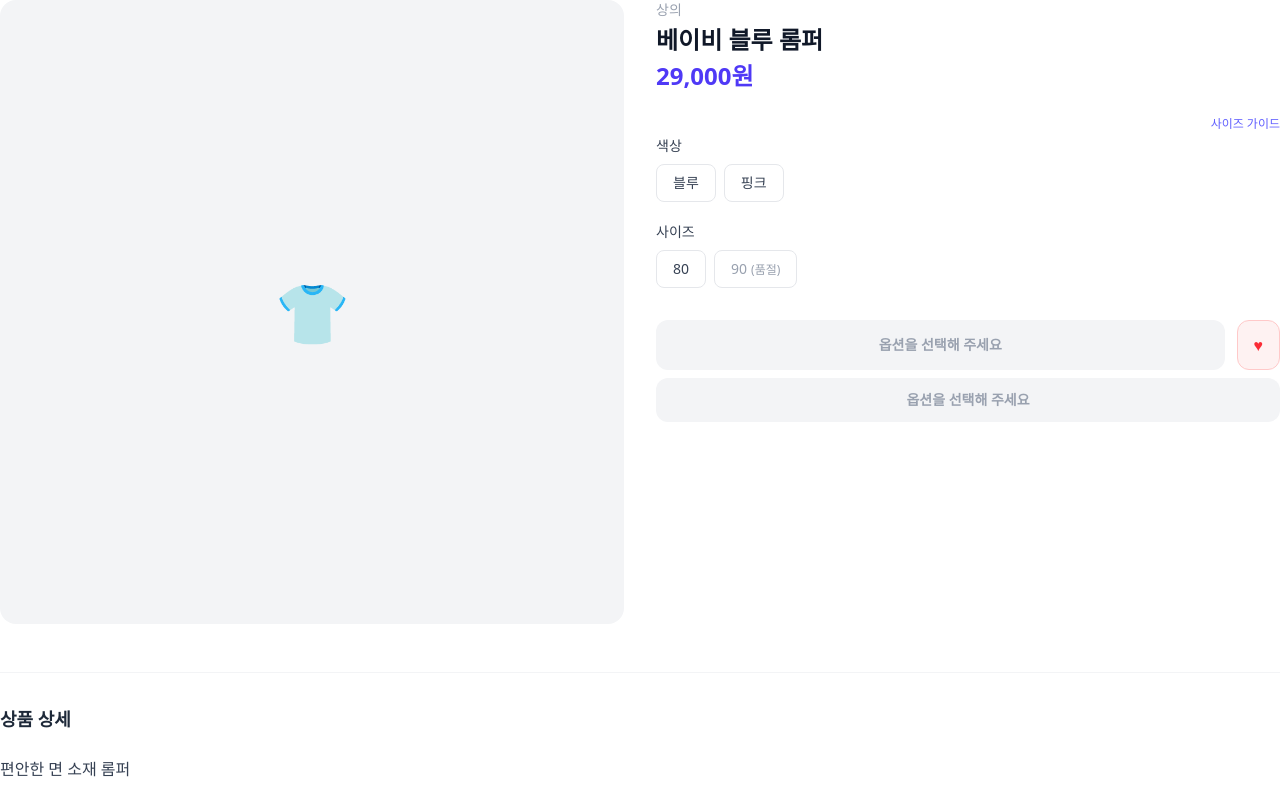
Test: ProductDetailContent › 사이즈 가이드 모달 › 사이즈 가이드 버튼 클릭 시 모달이 열린다
Click the button with aria-label "사이즈 가이드 열기" at [1245, 124], box [1211,116,1279,132]
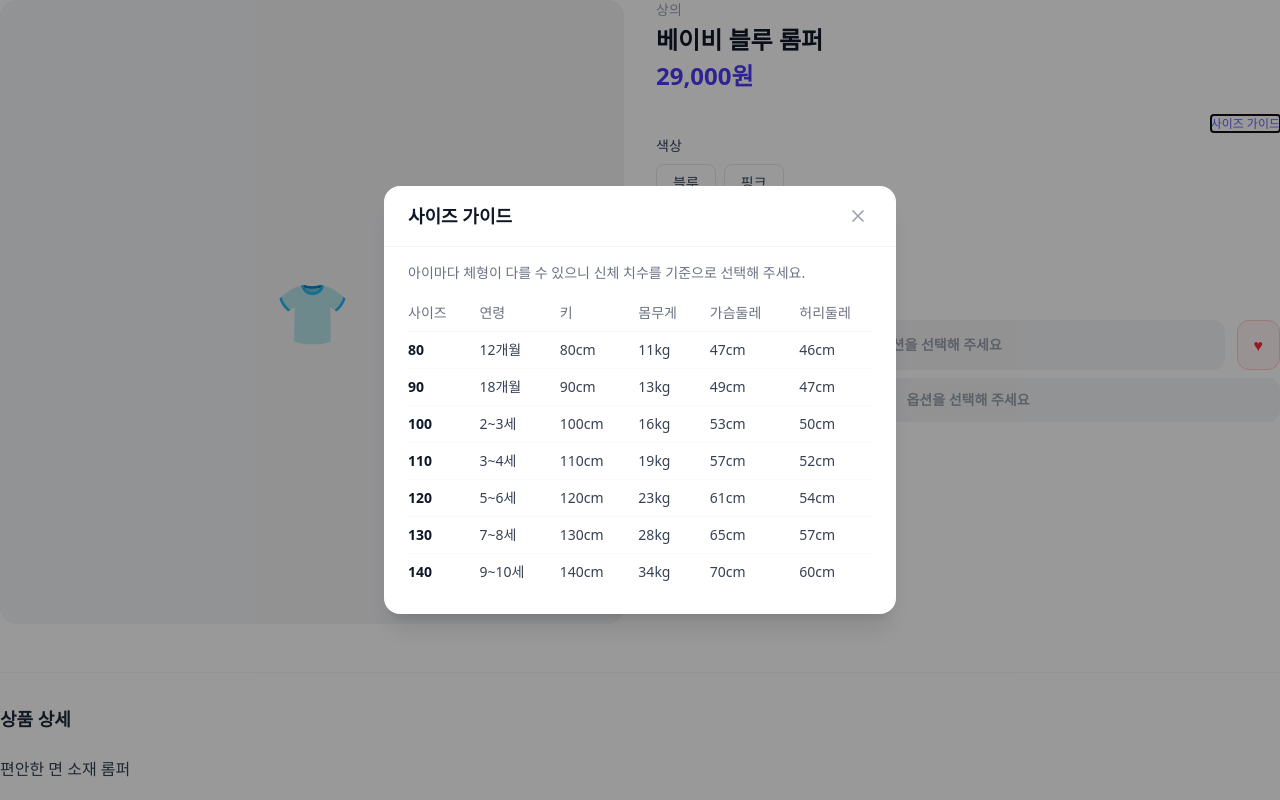
Result: the dialog "사이즈 가이드" is shown
